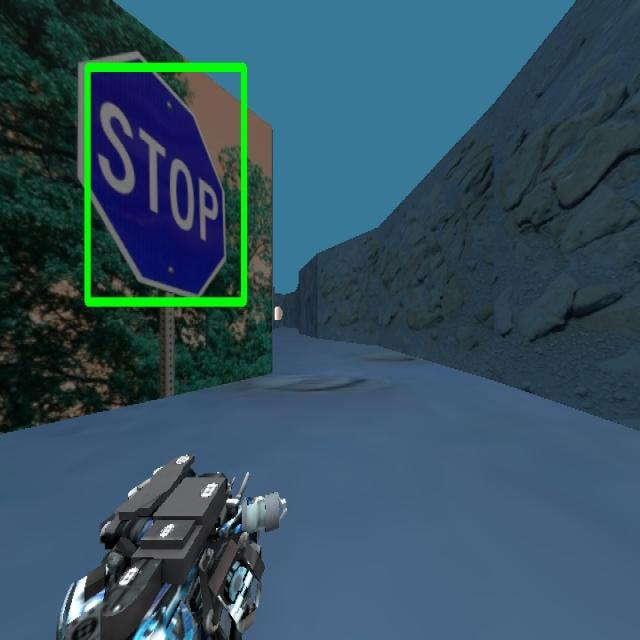Circle: (271, 296, 285, 325)
Stop_Sign: (80, 57, 248, 308)
